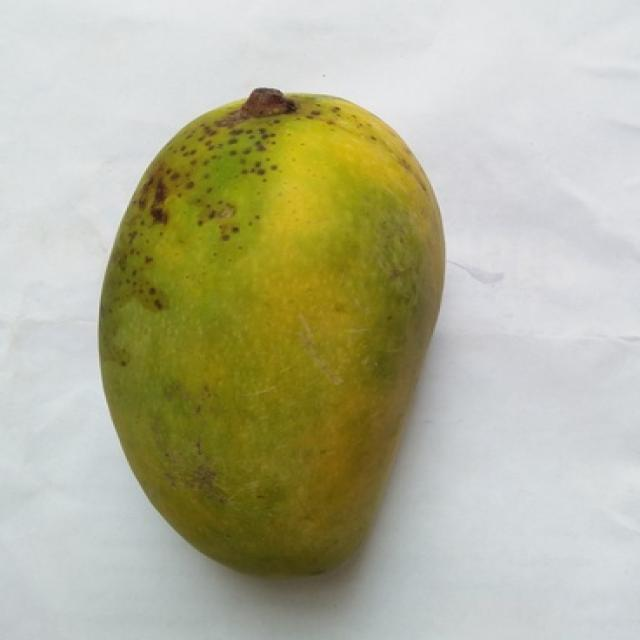Mango: (101, 94, 443, 573)
